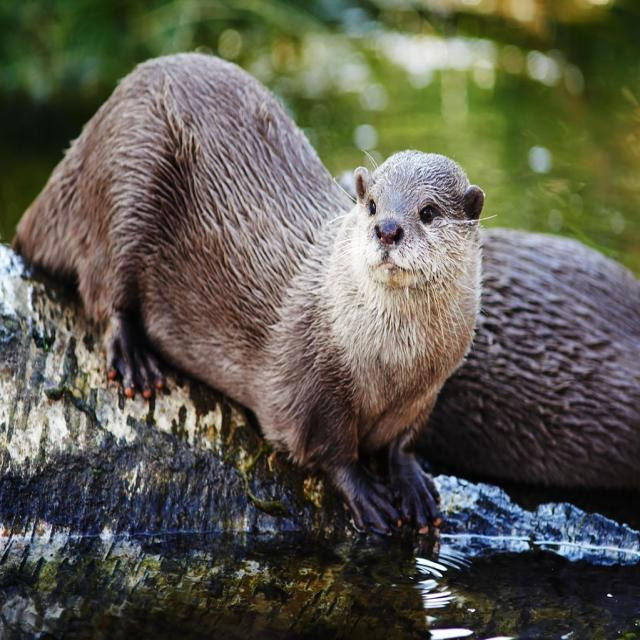otter: (77, 52, 483, 462)
